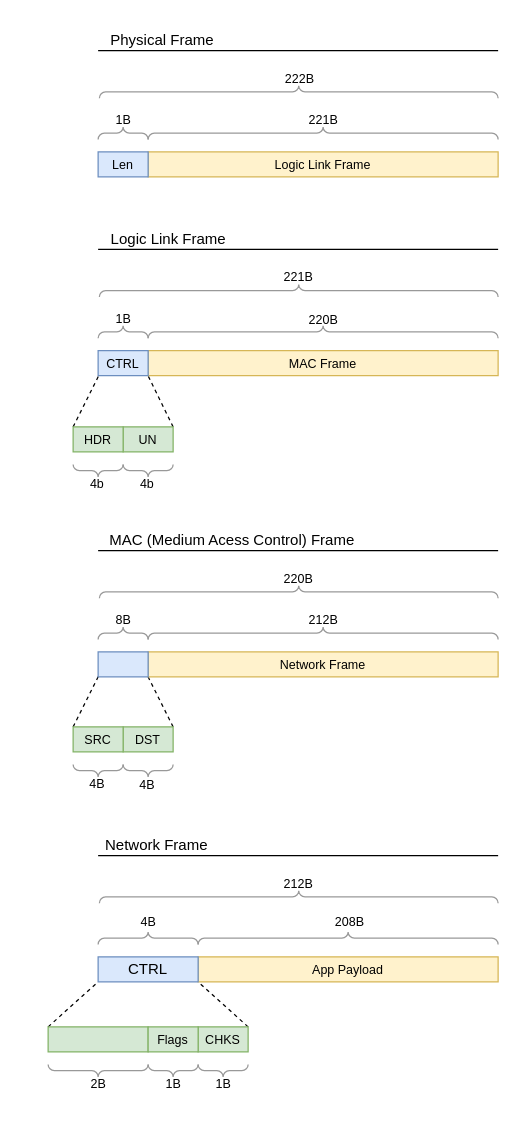
This 521x1123 diagram has some shape labels left out. The shapes that lost their labels are listed below. From the top down, each one's box as (x1, y1, x2, y2) in pixels, then its label:
(97, 651, 148, 677): ADDR
(47, 1026, 148, 1052): Seq. Number
